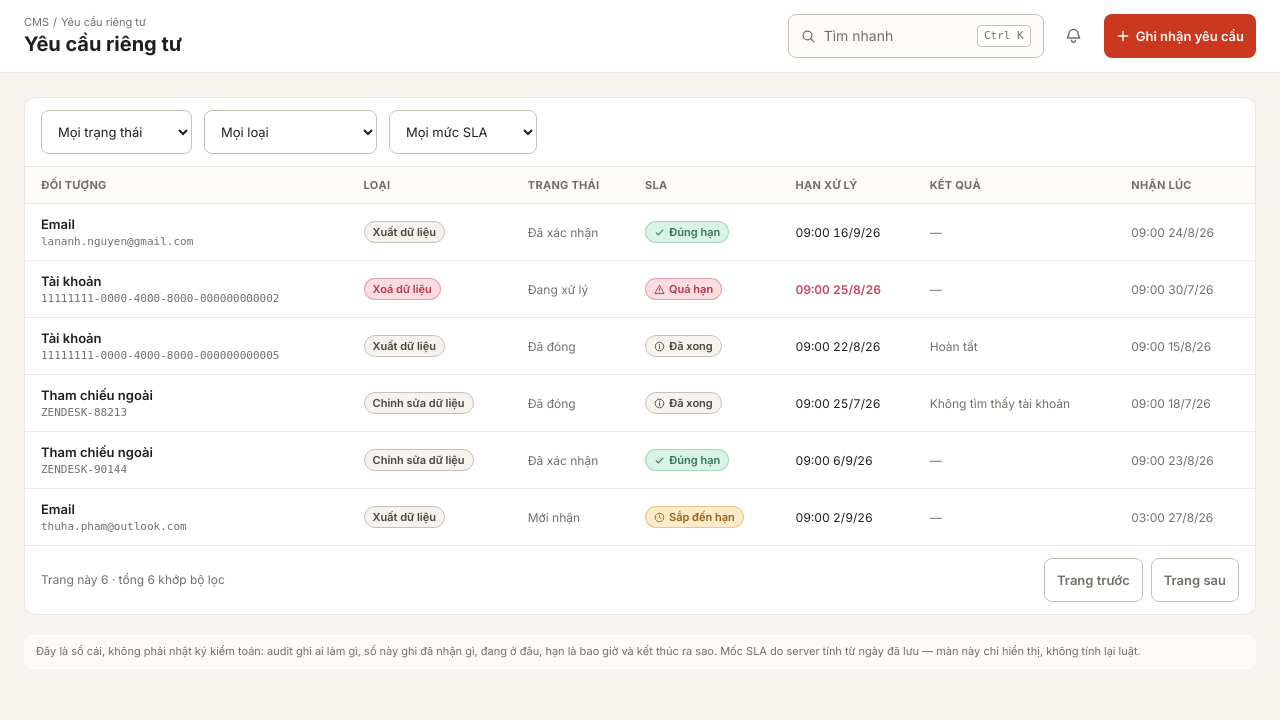
privacy ledger (CMS-043) › offers no execute on a correction — the contract refuses it
Click the text "ZENDESK-90144": (84, 470) [41,463,127,476]
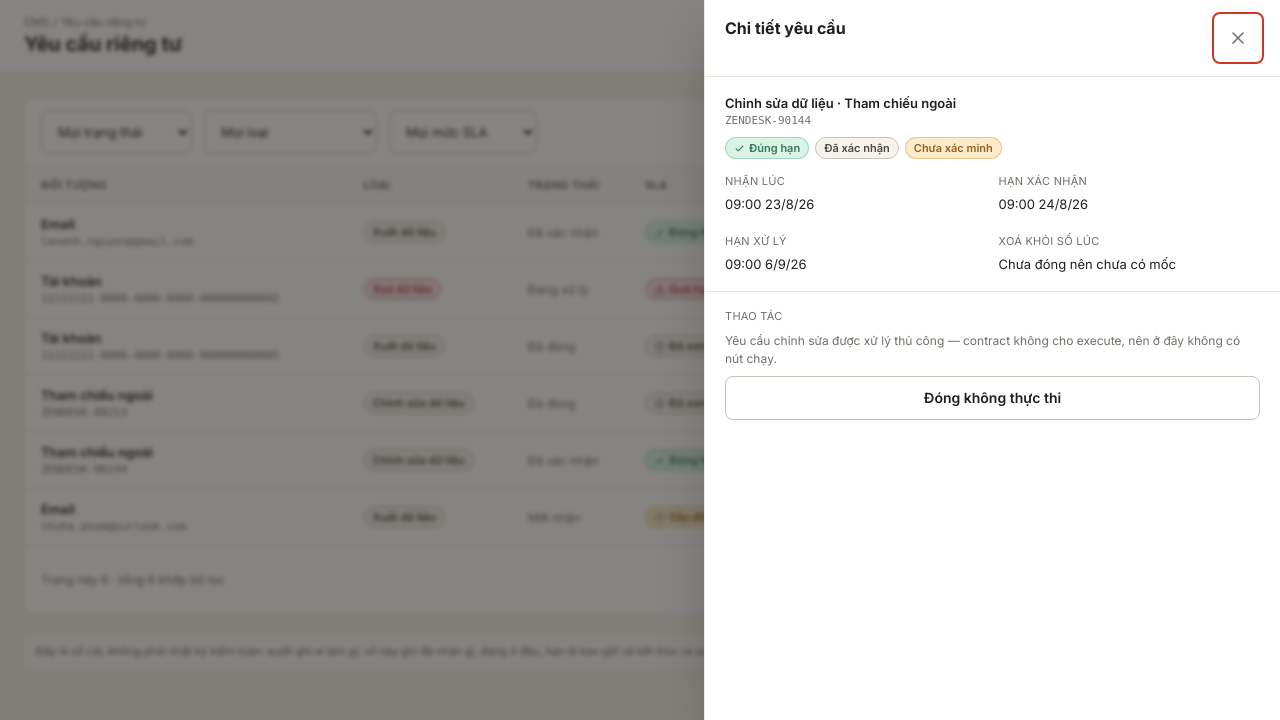
Expected: the text "xử lý thủ công" is shown, [725,333,1240,366]
